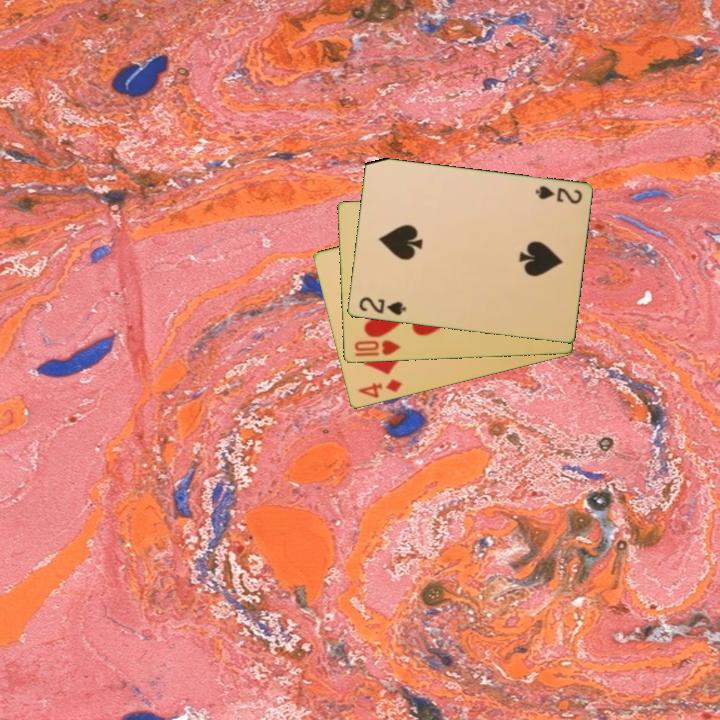10h: (351, 337, 403, 359)
2s: (355, 293, 408, 319), (531, 182, 584, 207)
4d: (354, 376, 405, 401)
